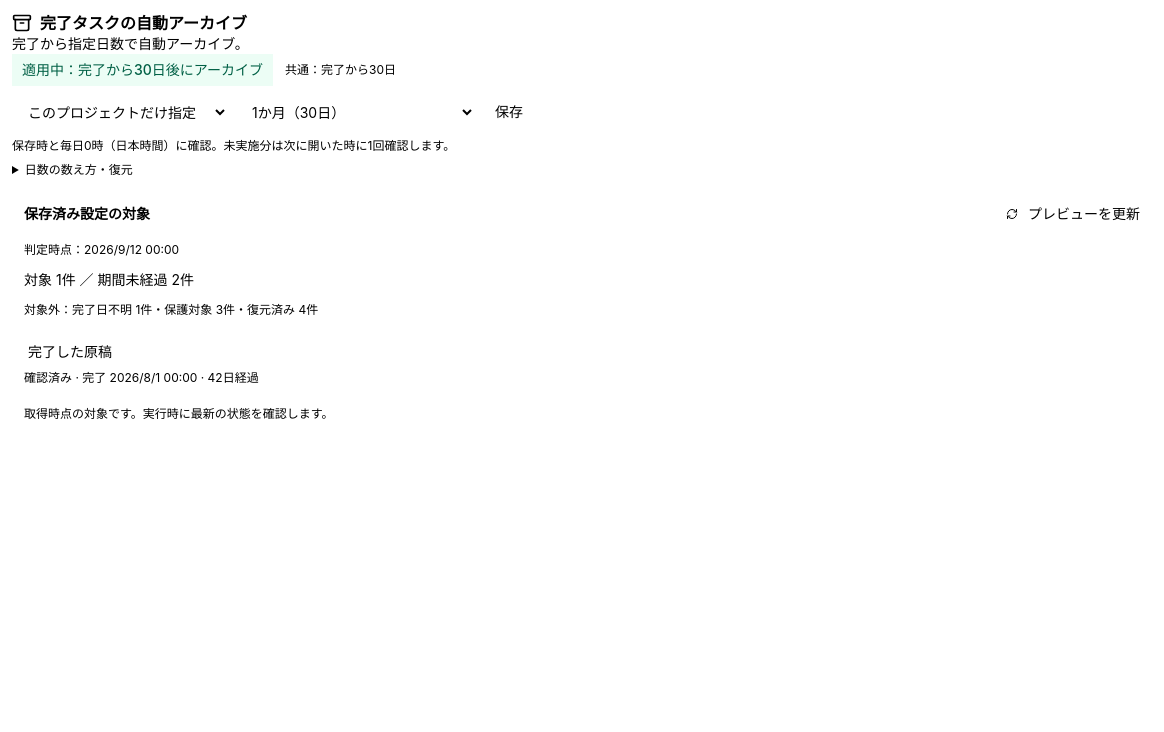
Test case: AutoArchiveSettings server policy › refreshes run results while retaining an unsaved draft and its original revision
The width and height of the screenshot is (1164, 732).
Check: the 1st dropdown is enabled, box x1=12 y1=94 x2=228 y2=130
Select "1週間（7日）" in the 2nd dropdown named "完了からの期間": (356, 112) x1=236 y1=94 x2=475 y2=130
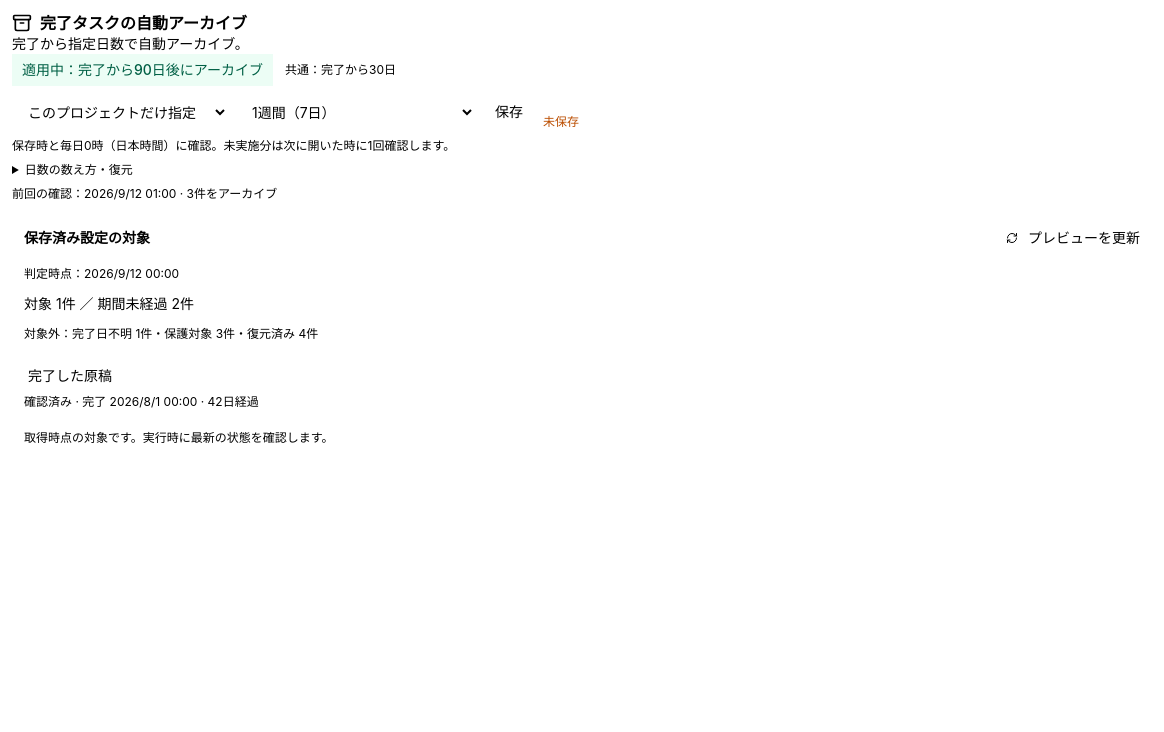
Check: the 1st dropdown is enabled, box x1=12 y1=94 x2=228 y2=130
Check: the text "前回の確認：2026/9/12 01:00 · 3件をアーカイブ" is shown, box x1=12 y1=186 x2=277 y2=201
Check: the text "適用中：完了から90日後にアーカイブ" is shown, box x1=12 y1=54 x2=273 y2=86
Click the button "保存": click(509, 112) x1=483 y1=94 x2=535 y2=130
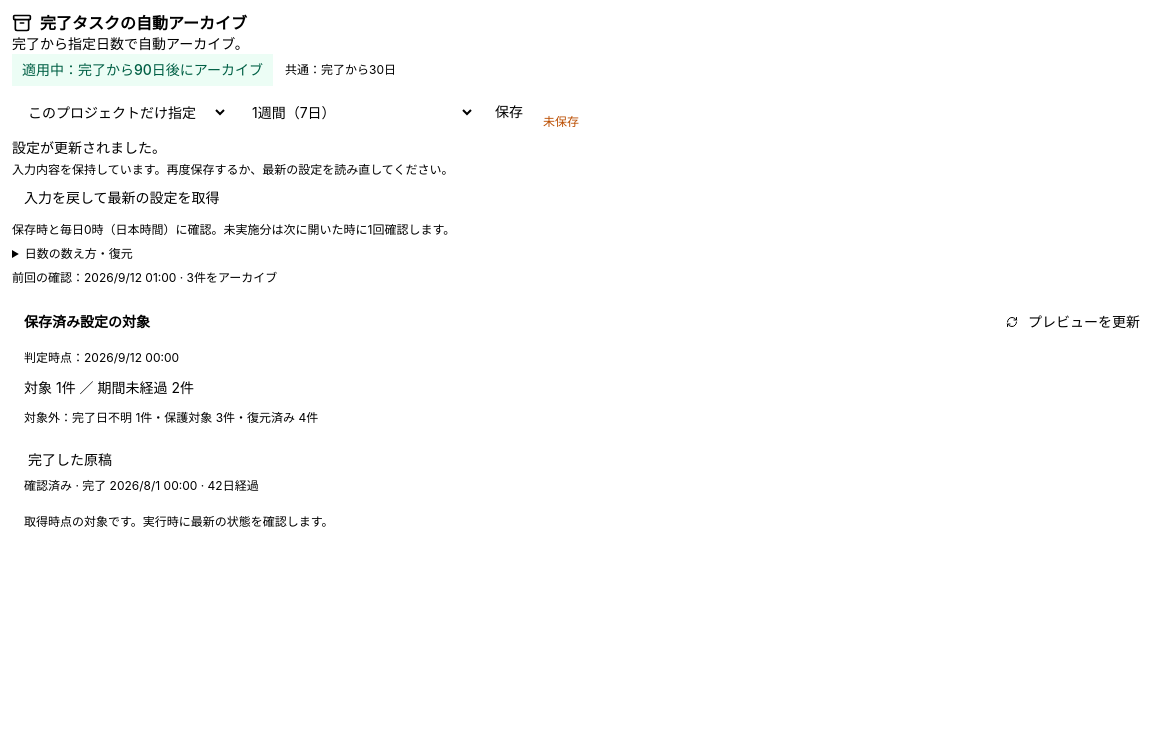
Check: the message "設定が更新されました。 入力内容を保持しています。再度保存するか、最新の設定を読み直してください。 入力を戻して最新の設定を取得" is shown, box x1=12 y1=139 x2=454 y2=214
